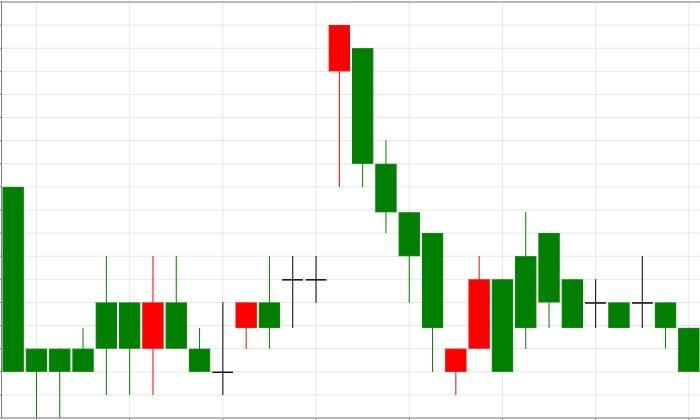hanging_man_fall: (211, 25, 351, 394)
three_black_crows_fall: (211, 25, 421, 395)
